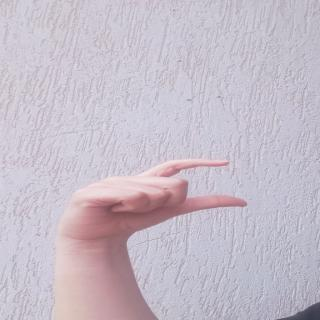DELL: (63, 150, 259, 242)
